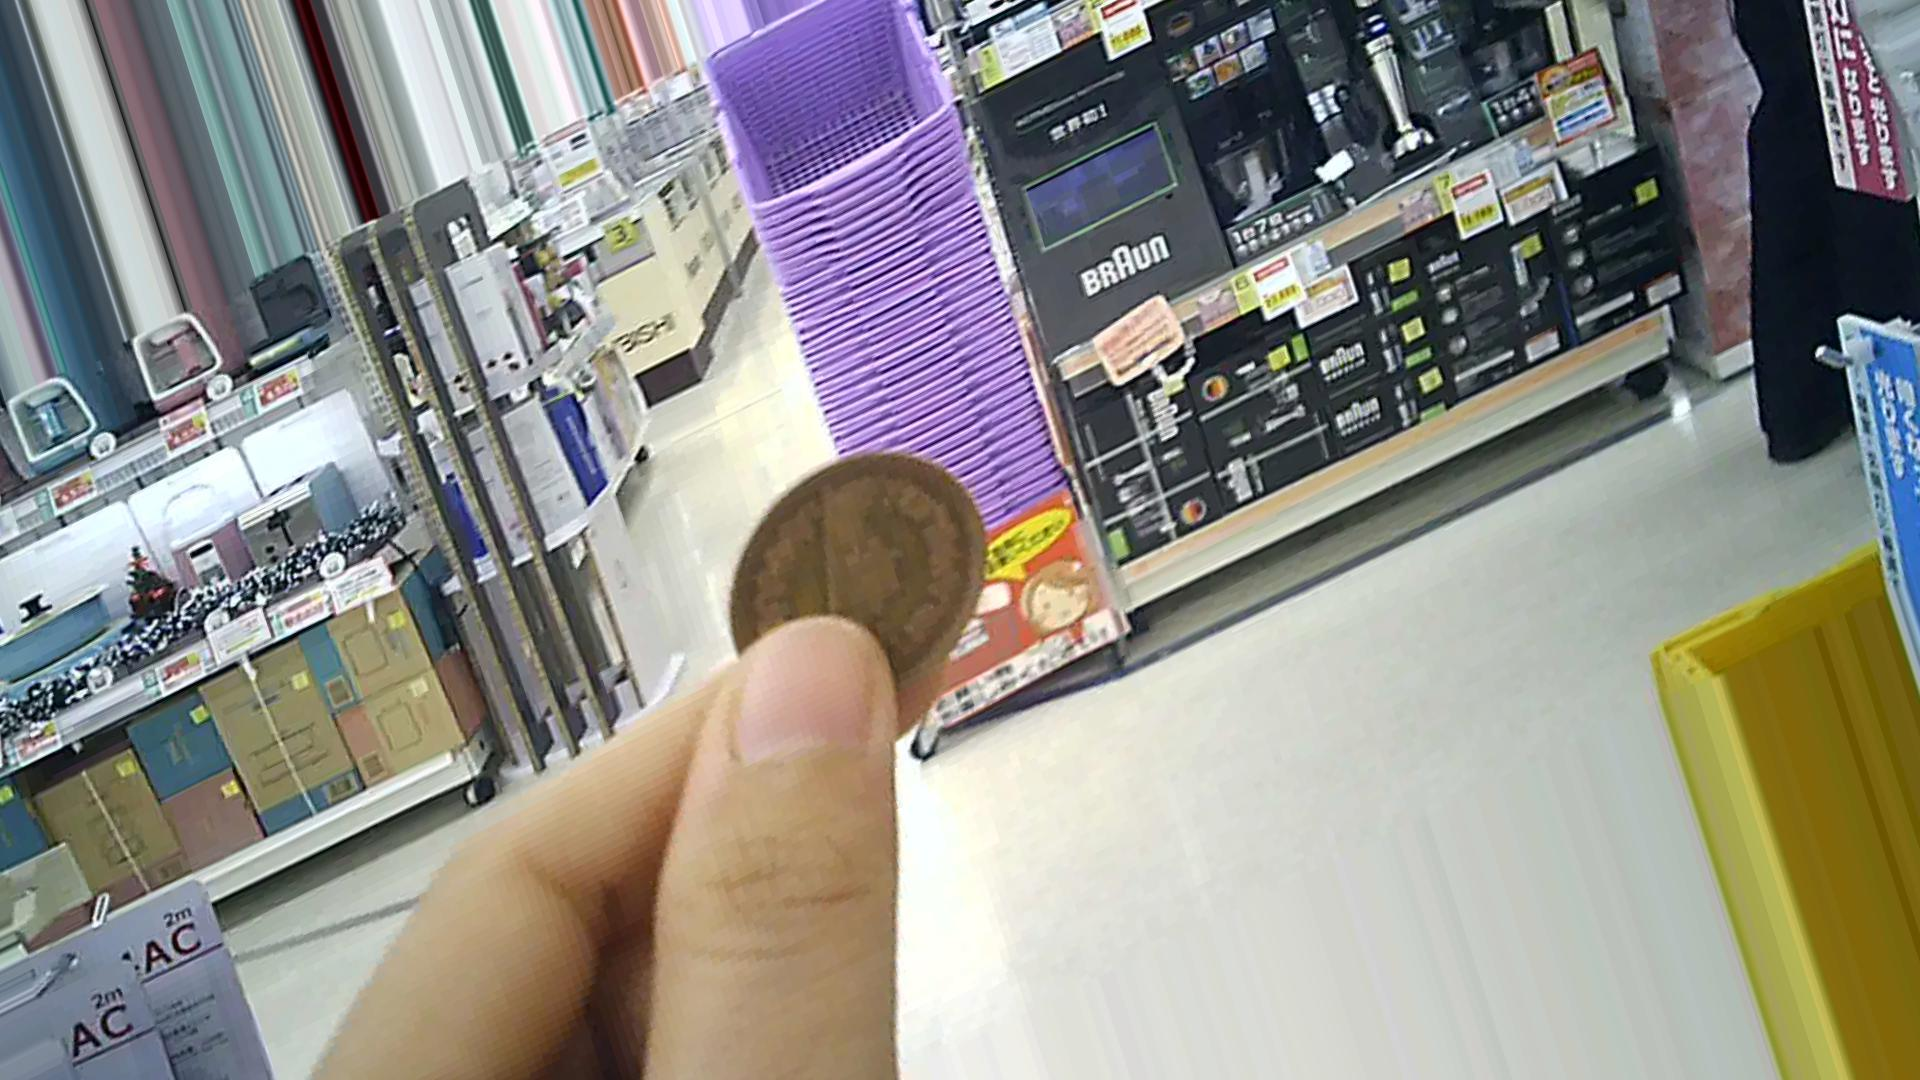10 Yen: (717, 448, 978, 723)
